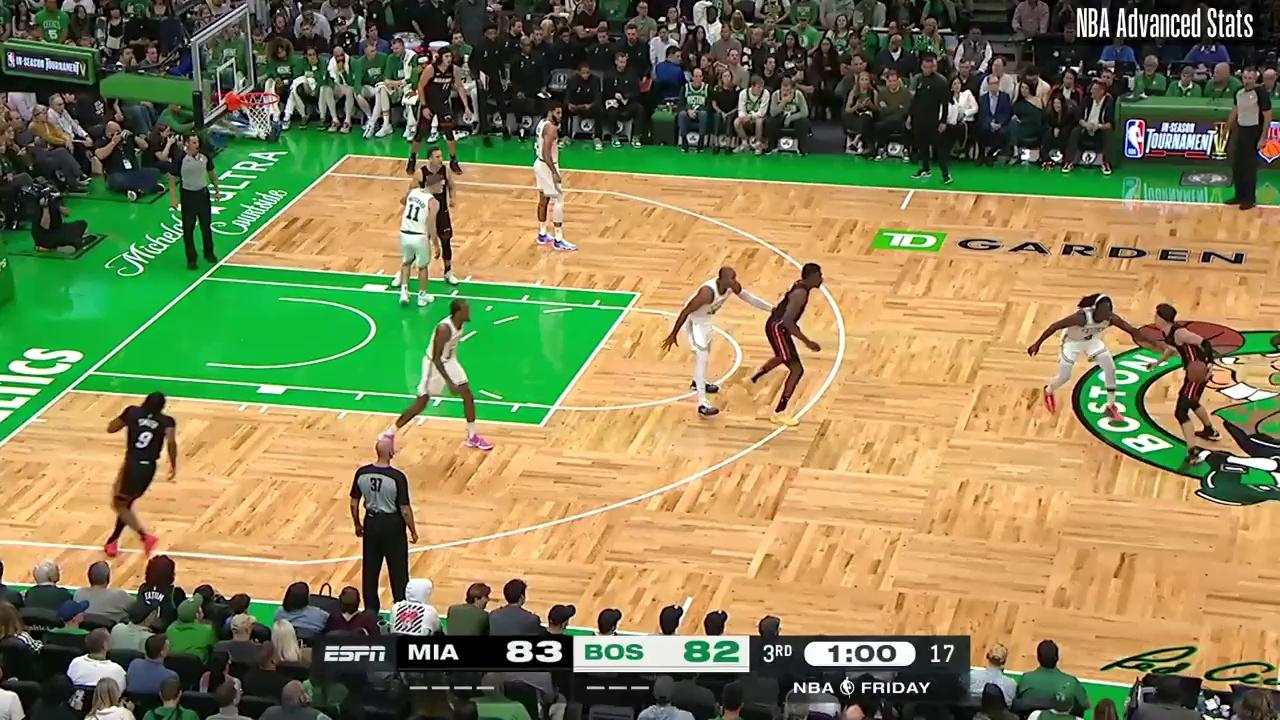3_dx: (322, 168, 332, 177)
b_dx: (342, 151, 352, 160)
free_adx: (632, 288, 644, 300)
free_asx: (535, 420, 548, 431)
free_bdx: (215, 259, 226, 268)
free_bsx: (62, 384, 73, 396)
mid_dx: (897, 203, 908, 215)
mid_sx: (684, 591, 697, 604)
referee: (350, 439, 422, 604), (171, 132, 225, 267), (1225, 67, 1266, 213)
team: (387, 295, 500, 452), (1021, 288, 1139, 429), (668, 266, 767, 426), (532, 100, 580, 254), (400, 173, 438, 301)
team1: (748, 262, 830, 433), (99, 390, 176, 563), (1155, 303, 1225, 470), (405, 150, 461, 285), (403, 46, 463, 168)
timer: (825, 639, 897, 670)
